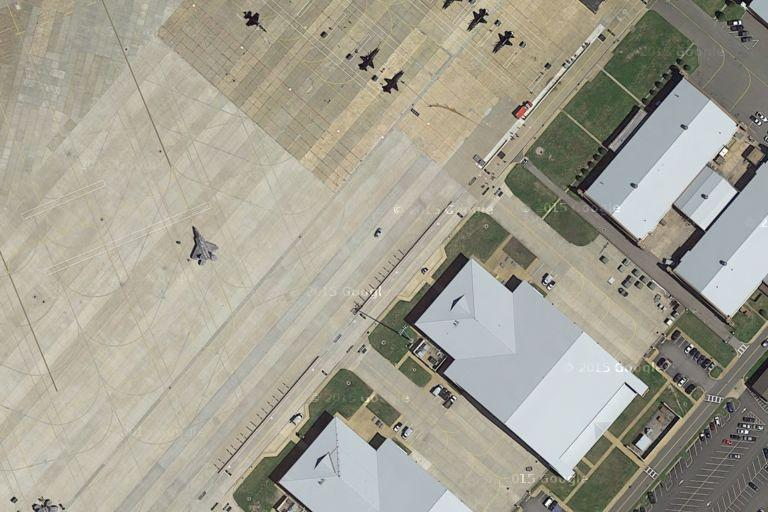F-22: (186, 224, 222, 268)
plane: (488, 24, 519, 58), (354, 41, 383, 75), (378, 65, 408, 97), (464, 4, 493, 35), (240, 8, 271, 34)
